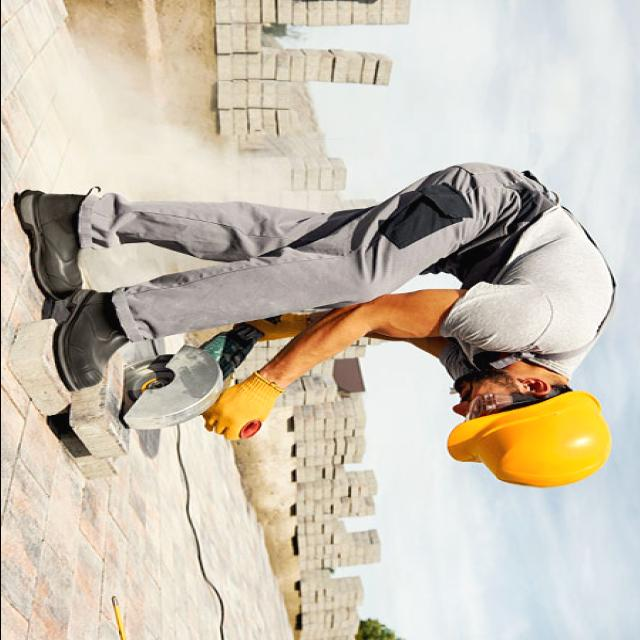Boots: (14, 185, 134, 393)
Gloves: (192, 370, 292, 442), (238, 308, 310, 342)
Hard Hat: (447, 378, 620, 489)
Safety Glasses: (456, 390, 558, 424)
